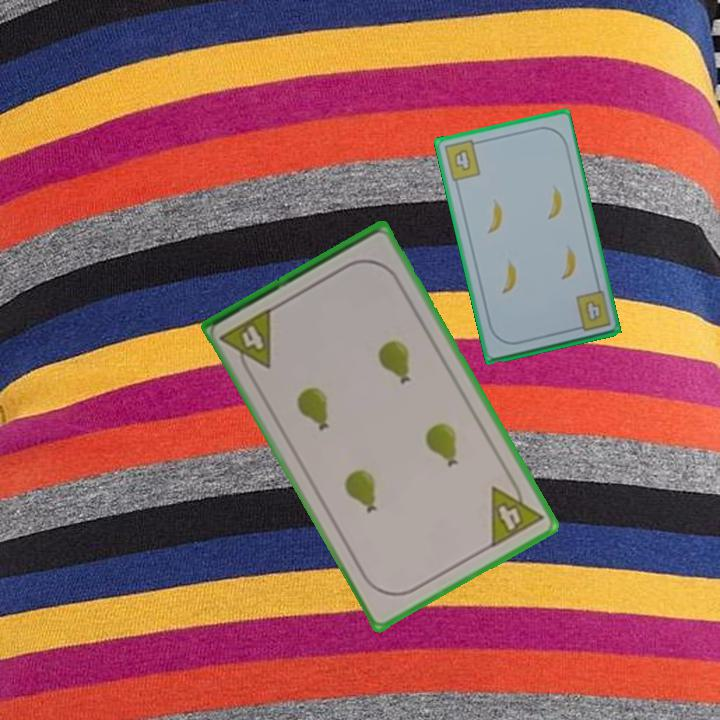4b: (440, 136, 483, 184), (570, 288, 613, 334)
4p: (487, 473, 547, 551), (217, 304, 276, 380)
